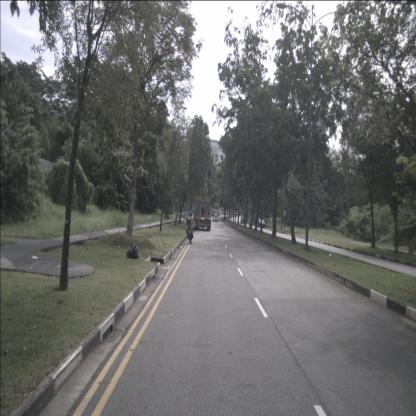vehicle-car: (258, 218, 266, 228), (241, 215, 247, 224), (213, 214, 218, 223)
vehicle-motorcycle: (186, 210, 194, 244)
vehicle-truck: (194, 194, 211, 230)
